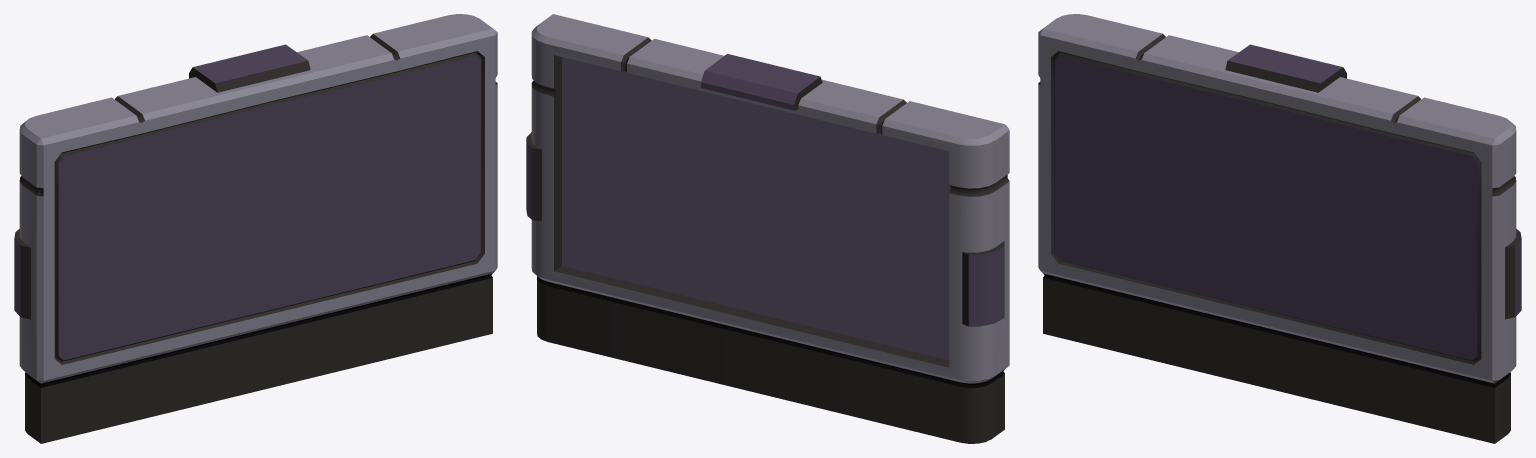
The model's file is ohmypixel_frame.gltf.
The picture shows the model from 3 angles, left to right: view 1: azimuth 30°, elevation 25°; view 2: azimuth 150°, elevation 25°; view 3: azimuth 330°, elevation 25°; orthographic projection.
Visible parts, largest first — view 1: ohmypixel_frame; view 2: ohmypixel_frame; view 3: ohmypixel_frame.
Boxes of the visible parts, x1,y1,x2,y2 form: ohmypixel_frame: (14,14,497,443); ohmypixel_frame: (526,14,1009,443); ohmypixel_frame: (1038,14,1521,443).
Size of what is drawn, in the model's own units: 6.33 by 4.01 by 0.7967.
Materials: 1 (1 with a texture image).
